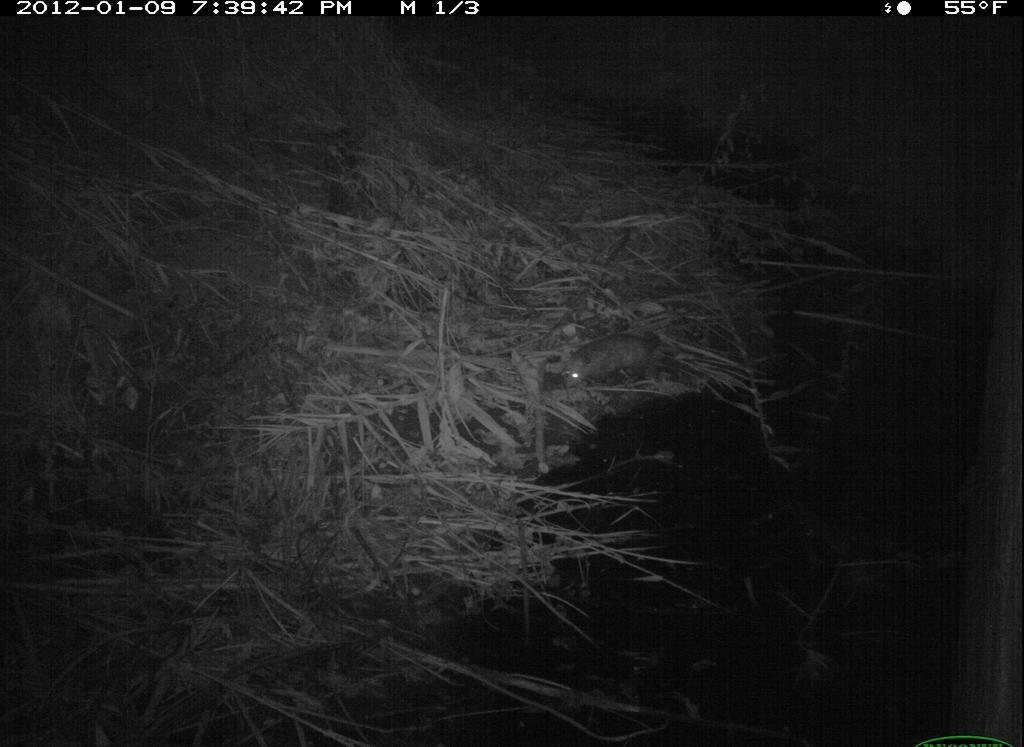opossum: (536, 321, 684, 396)
